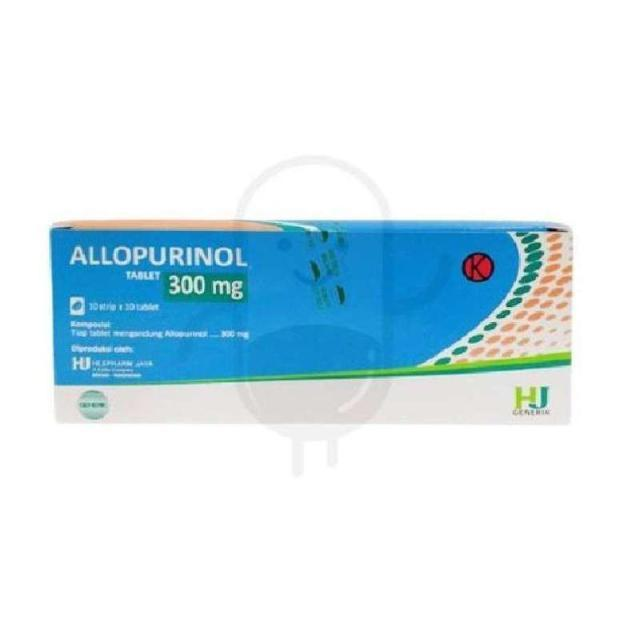drug-name: (68, 240, 255, 274)
